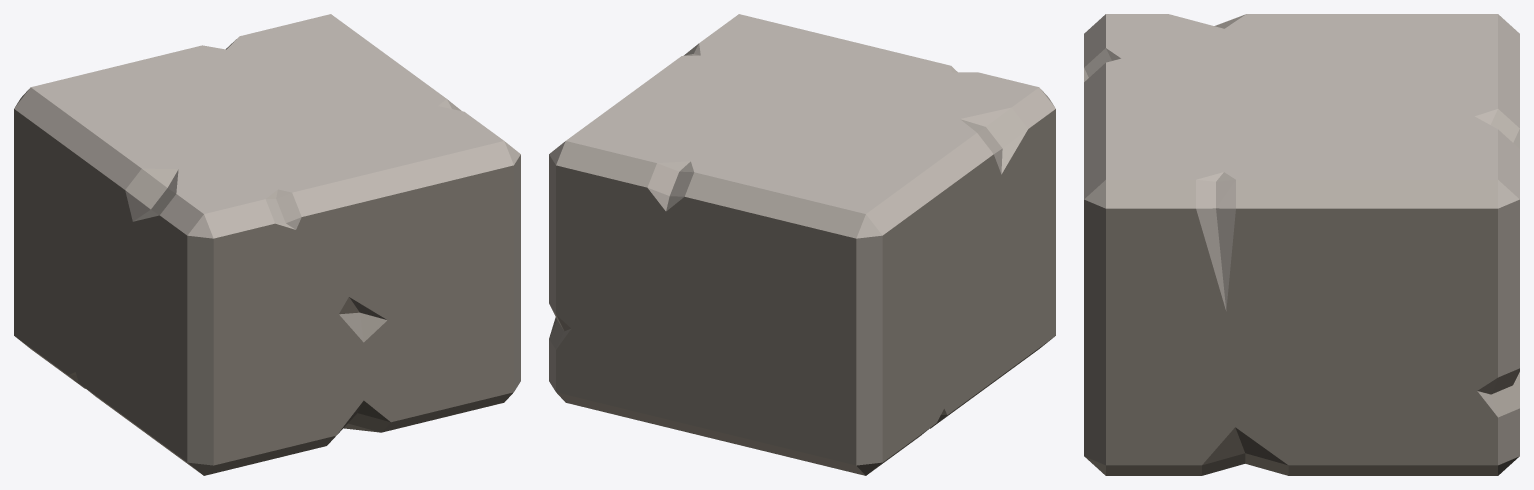
The model's file is m_kub_stone_cubeMid.FBX.
3 renders of one model, left to right at view 1: azimuth 30°, elevation 25°; view 2: azimuth 150°, elevation 25°; view 3: azimuth 270°, elevation 25°, orthographic. The views are drawn at different scales.
Visible parts, largest first — view 1: m_kub_stone_cubeMid; view 2: m_kub_stone_cubeMid; view 3: m_kub_stone_cubeMid.
Boxes of the visible parts, x1,y1,x2,y2 form: m_kub_stone_cubeMid: (14,14,520,475); m_kub_stone_cubeMid: (549,14,1055,475); m_kub_stone_cubeMid: (1084,14,1519,475).
Size of the model in its own units: 2 by 1.5 by 2.
